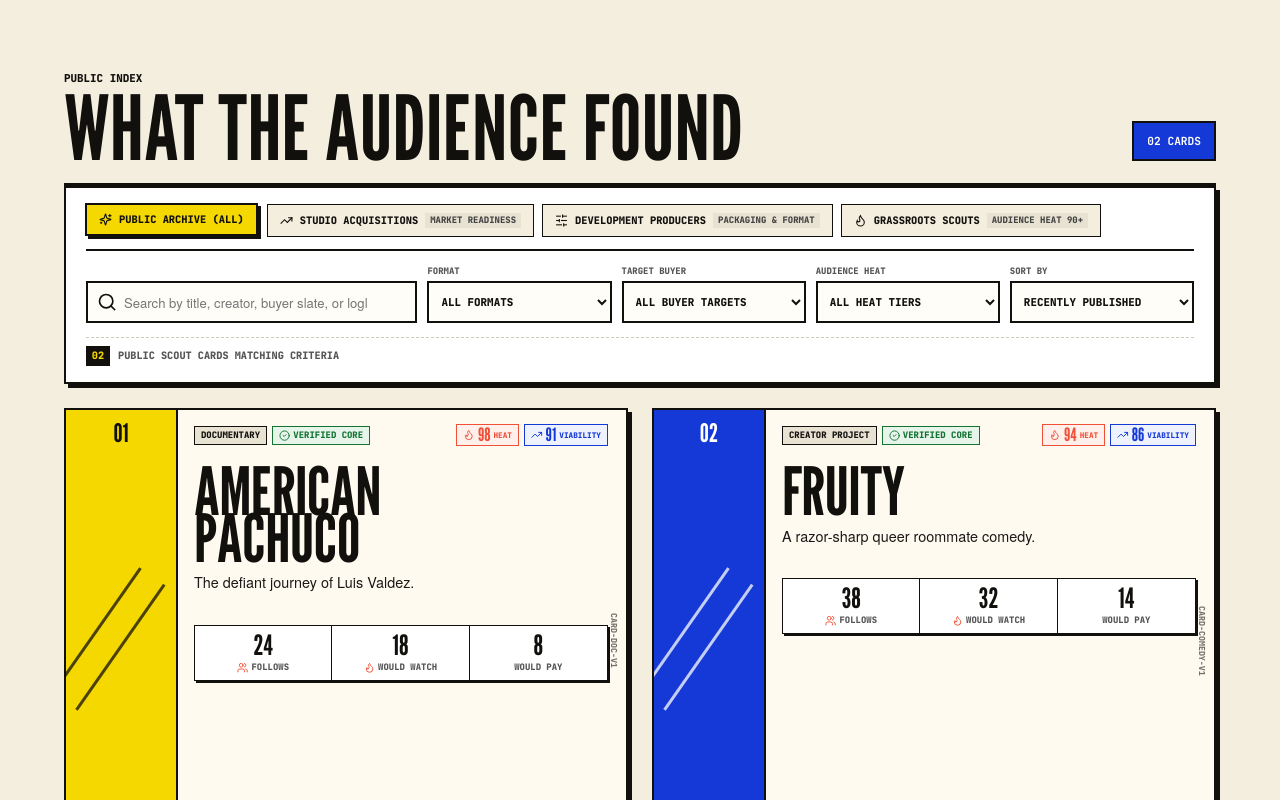
it: ScoutingWallClient Component › filters scout cards dynamically by search text
Replace the text in the search field with placeholder "Search by title, creator" with "Valdez" at (252, 302), box [86, 281, 417, 323]
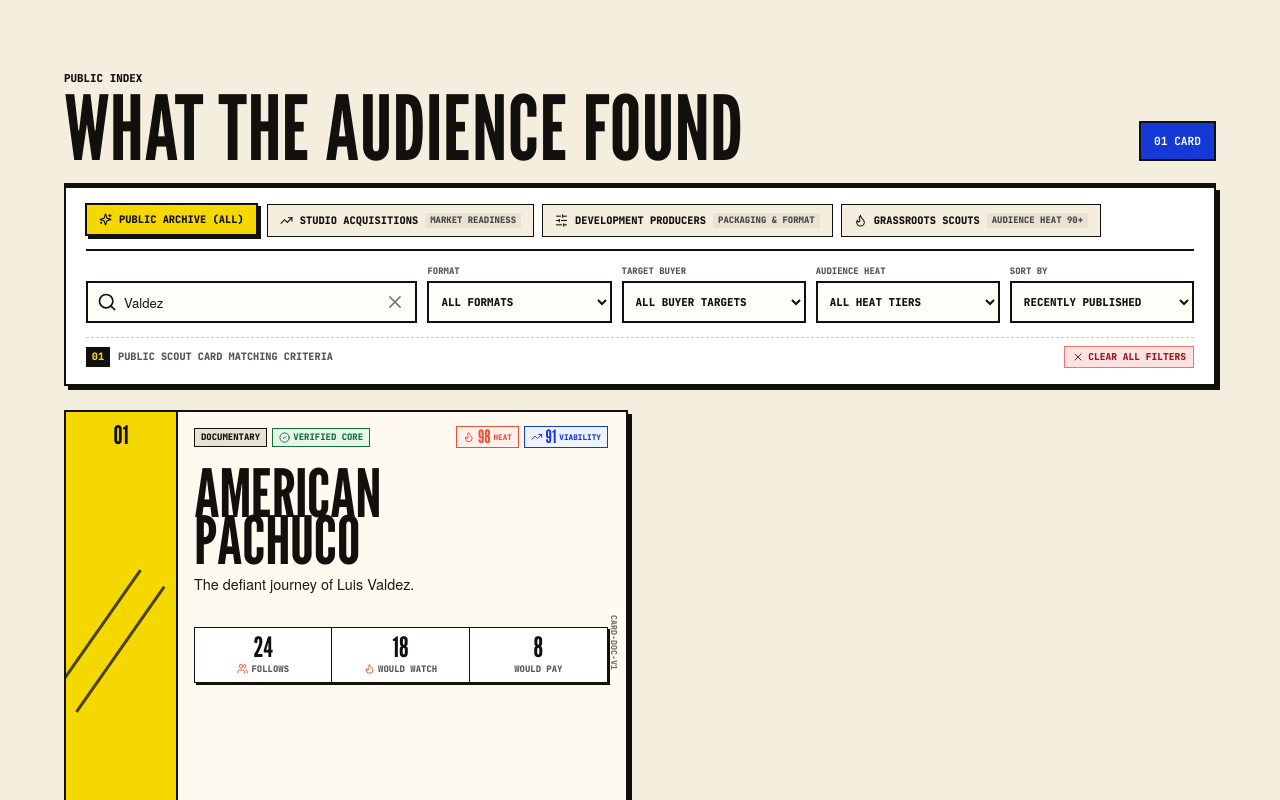
Expected: the link "American Pachuco" is shown, [194, 453, 381, 579]
Result: the link "Fruity" is gone
Result: the text "01 card" is shown at [1139, 121, 1216, 161]
